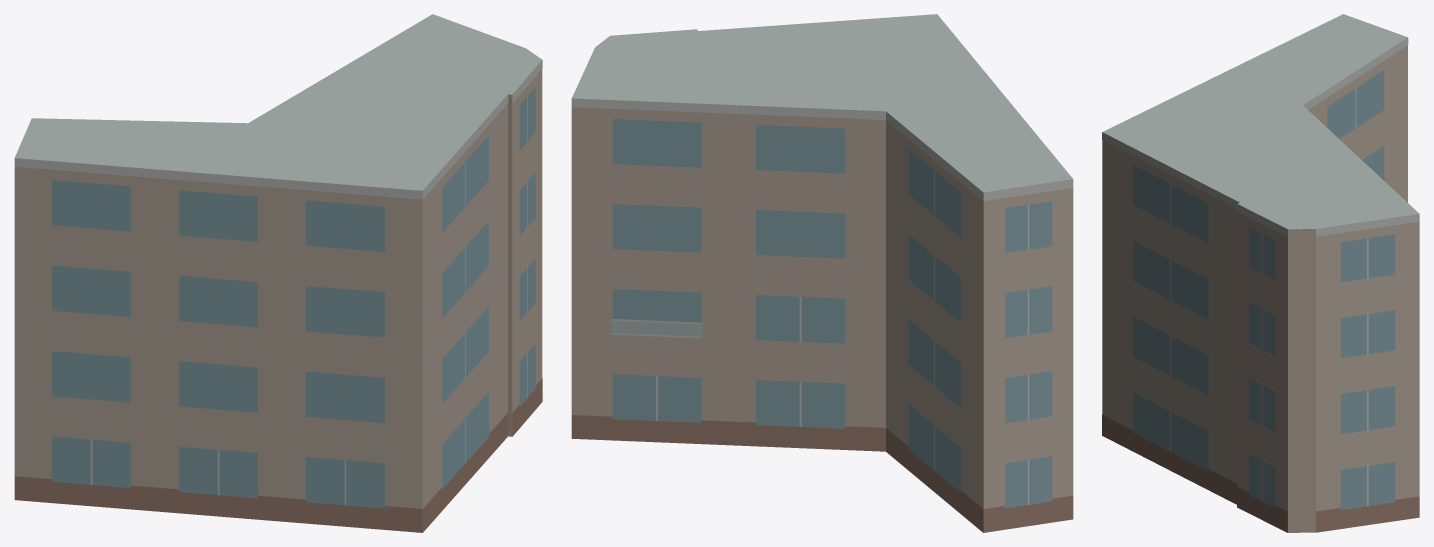
File: survey-upis-32680835.glb
The picture shows the model from 3 angles, left to right: view 1: azimuth 30°, elevation 25°; view 2: azimuth 150°, elevation 25°; view 3: azimuth 270°, elevation 25°; orthographic projection. The views are drawn at different scales.
Parts seen in each view (by area): view 1: survey-upis-32680835.tmp; view 2: survey-upis-32680835.tmp; view 3: survey-upis-32680835.tmp.
Boxes of the visible parts, left/top/right/bottom form: survey-upis-32680835.tmp: left=14, top=14, right=542, bottom=532; survey-upis-32680835.tmp: left=571, top=14, right=1073, bottom=532; survey-upis-32680835.tmp: left=1102, top=14, right=1419, bottom=532.
Bounding box in the file's own units: 14.46 × 9.51 × 9.02.
